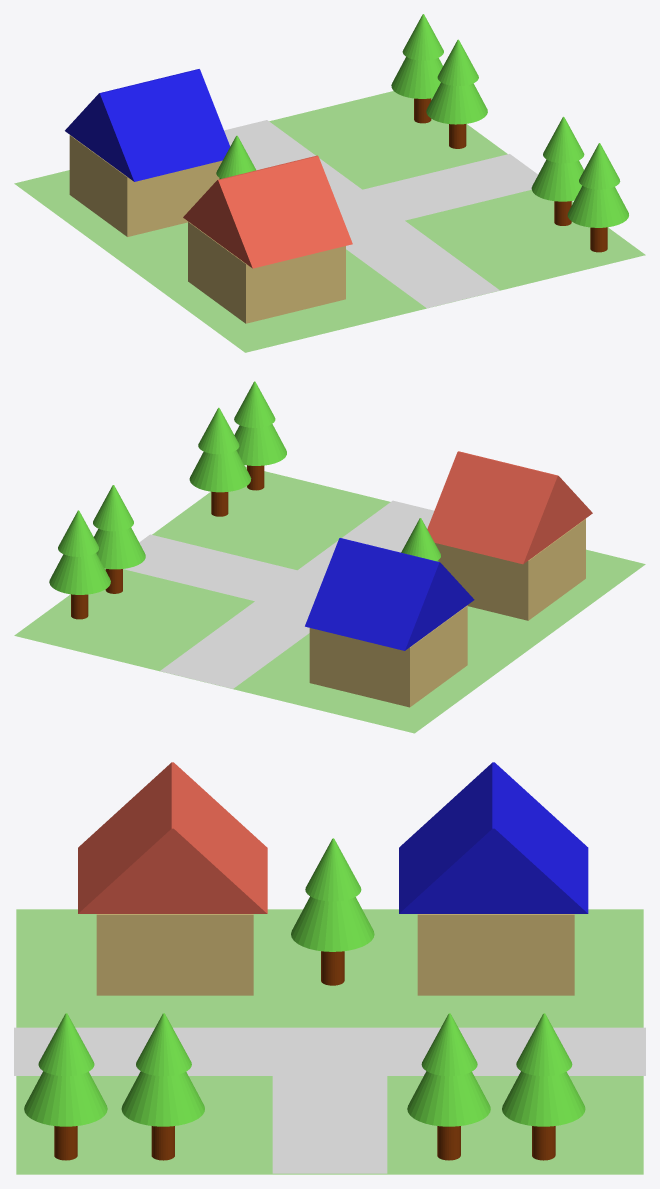
The model's file is godot1.glb.
3 views of the same model, one above another, from view 1: azimuth 30°, elevation 25°; view 2: azimuth 150°, elevation 25°; view 3: azimuth 270°, elevation 25° (orthographic). The views are drawn at different scales.
Visible parts, largest first — view 1: Plane, Cube.001, Cube.002, Plane.002, Cube, Cube.003, Plane.001, Cylinder.007, Cylinder.010, Cylinder.013, Cylinder.004, Cylinder.003 (+4 smaller); view 2: Plane, Cube.002, Cube.001, Plane.002, Cube.003, Cube, Plane.001, Cylinder.013, Cylinder.004, Cylinder.010, Cylinder.007, Cylinder.014 (+4 smaller); view 3: Plane, Plane.002, Cube.001, Cube.002, Cube, Cube.003, Plane.001, Cylinder.010, Cylinder.013, Cylinder.004, Cylinder.007, Cylinder.001 (+10 smaller).
Part boxes in pixels (left/top/right/bottom): Plane: left=14, top=91, right=645, bottom=352; Cube.001: left=183, top=155, right=352, bottom=268; Cube.002: left=65, top=69, right=230, bottom=181; Plane.002: left=224, top=120, right=499, bottom=308; Cube: left=188, top=221, right=345, bottom=323; Cube.003: left=69, top=135, right=222, bottom=236; Plane.001: left=334, top=154, right=537, bottom=225; Cylinder.007: left=426, top=82, right=487, bottom=124; Cylinder.010: left=567, top=186, right=628, bottom=227; Cylinder.013: left=531, top=159, right=583, bottom=201; Cylinder.004: left=391, top=57, right=442, bottom=98; Cylinder.003: left=402, top=14, right=443, bottom=60; Plane: left=14, top=466, right=645, bottom=733; Cube.002: left=305, top=538, right=474, bottom=650; Cube.001: left=427, top=451, right=592, bottom=564; Plane.002: left=160, top=500, right=433, bottom=688; Cube.003: left=309, top=605, right=467, bottom=707; Cube: left=435, top=518, right=585, bottom=620; Plane.001: left=123, top=534, right=323, bottom=607; Cylinder.013: left=189, top=450, right=251, bottom=492; Cylinder.004: left=49, top=553, right=110, bottom=594; Cylinder.010: left=234, top=424, right=286, bottom=465; Cylinder.007: left=94, top=527, right=145, bottom=569; Cylinder.014: left=198, top=407, right=239, bottom=454; Plane: left=16, top=909, right=643, bottom=1174; Plane.002: left=14, top=1027, right=645, bottom=1075; Cube.001: left=78, top=762, right=267, bottom=913; Cube.002: left=399, top=762, right=588, bottom=913; Cube: left=96, top=914, right=253, bottom=995; Cube.003: left=417, top=914, right=574, bottom=995; Plane.001: left=272, top=1076, right=387, bottom=1173; Cylinder.010: left=24, top=1071, right=107, bottom=1126; Cylinder.013: left=121, top=1071, right=204, bottom=1126; Cylinder.004: left=502, top=1071, right=585, bottom=1126; Cylinder.007: left=407, top=1071, right=490, bottom=1126; Cylinder.001: left=291, top=896, right=374, bottom=951.
Bounding box in the file's own units: 40.06 × 12.04 × 40.3.
